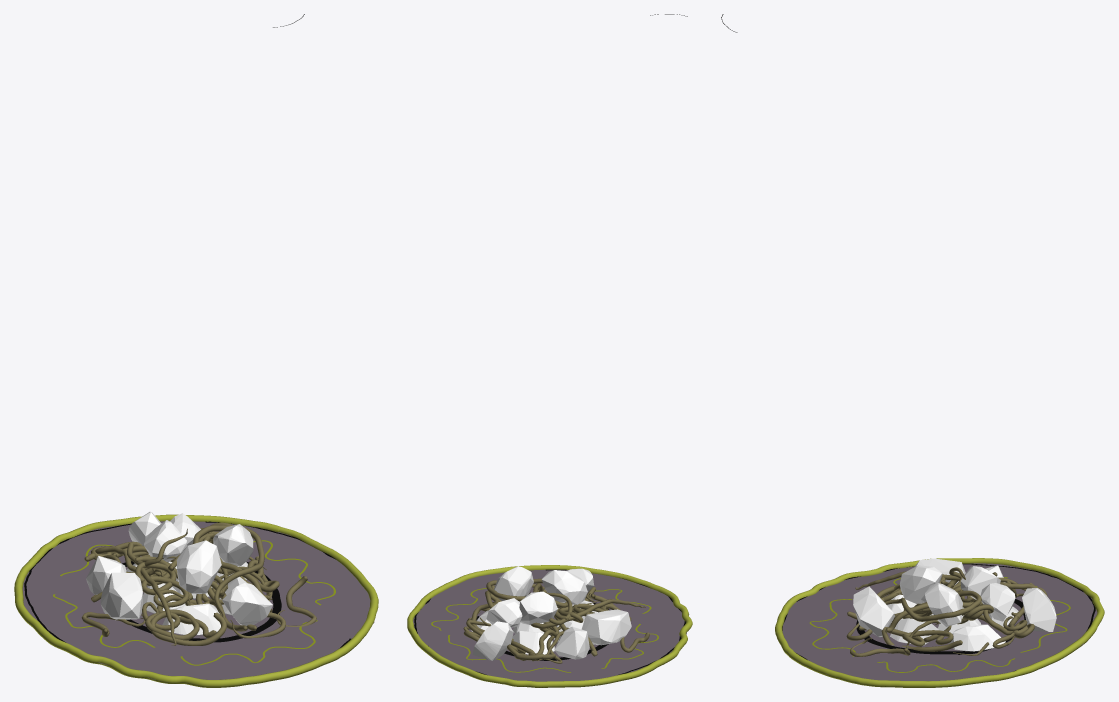
The picture shows the model from 3 angles, left to right: view 1: azimuth 30°, elevation 25°; view 2: azimuth 150°, elevation 25°; view 3: azimuth 270°, elevation 25°; orthographic projection. The views are drawn at different scales.
Visible parts, largest first — view 1: Untitled_15_Flat_geo, Untitled_15_Wire_geo, Untitled_15_MatteHull_geo; view 2: Untitled_15_Flat_geo, Untitled_15_MatteHull_geo, Untitled_15_Wire_geo; view 3: Untitled_15_Flat_geo, Untitled_15_Wire_geo, Untitled_15_MatteHull_geo.
Boxes of the visible parts, box(x1,y1,x2,y2) form: Untitled_15_Flat_geo: box(22, 14, 374, 679); Untitled_15_Wire_geo: box(14, 514, 378, 687); Untitled_15_MatteHull_geo: box(86, 512, 272, 635); Untitled_15_Flat_geo: box(413, 14, 689, 681); Untitled_15_MatteHull_geo: box(471, 566, 631, 660); Untitled_15_Wire_geo: box(407, 565, 692, 687); Untitled_15_Flat_geo: box(721, 14, 1097, 680); Untitled_15_Wire_geo: box(775, 558, 1104, 687); Untitled_15_MatteHull_geo: box(853, 558, 1056, 651).
Size of the model in its own units: 0.5892 by 1.29 by 0.7395.
